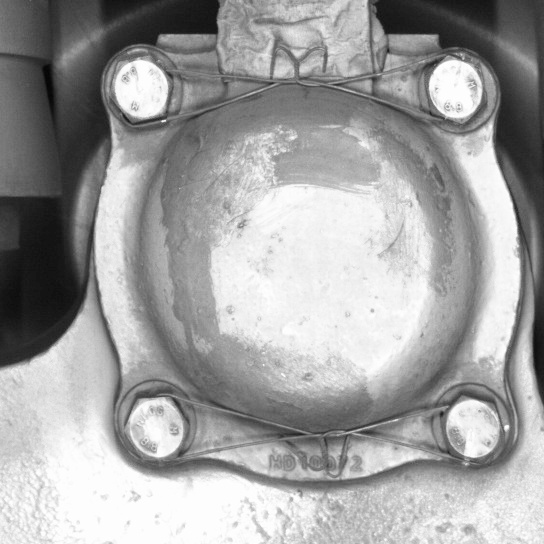IronWire: (99, 47, 493, 140), (116, 385, 513, 473)
Screw: (418, 43, 493, 138), (100, 48, 180, 134), (435, 386, 511, 474), (117, 387, 195, 470)
